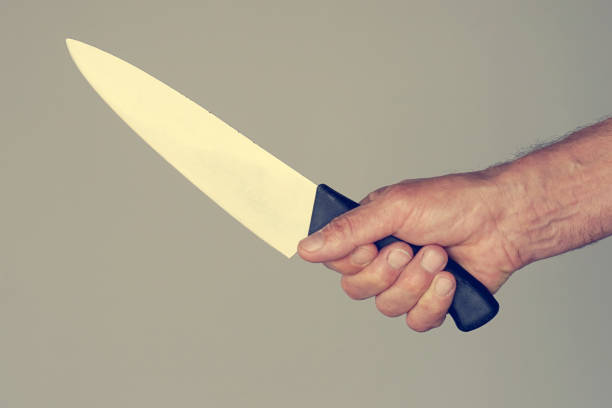knife: (60, 31, 503, 337)
